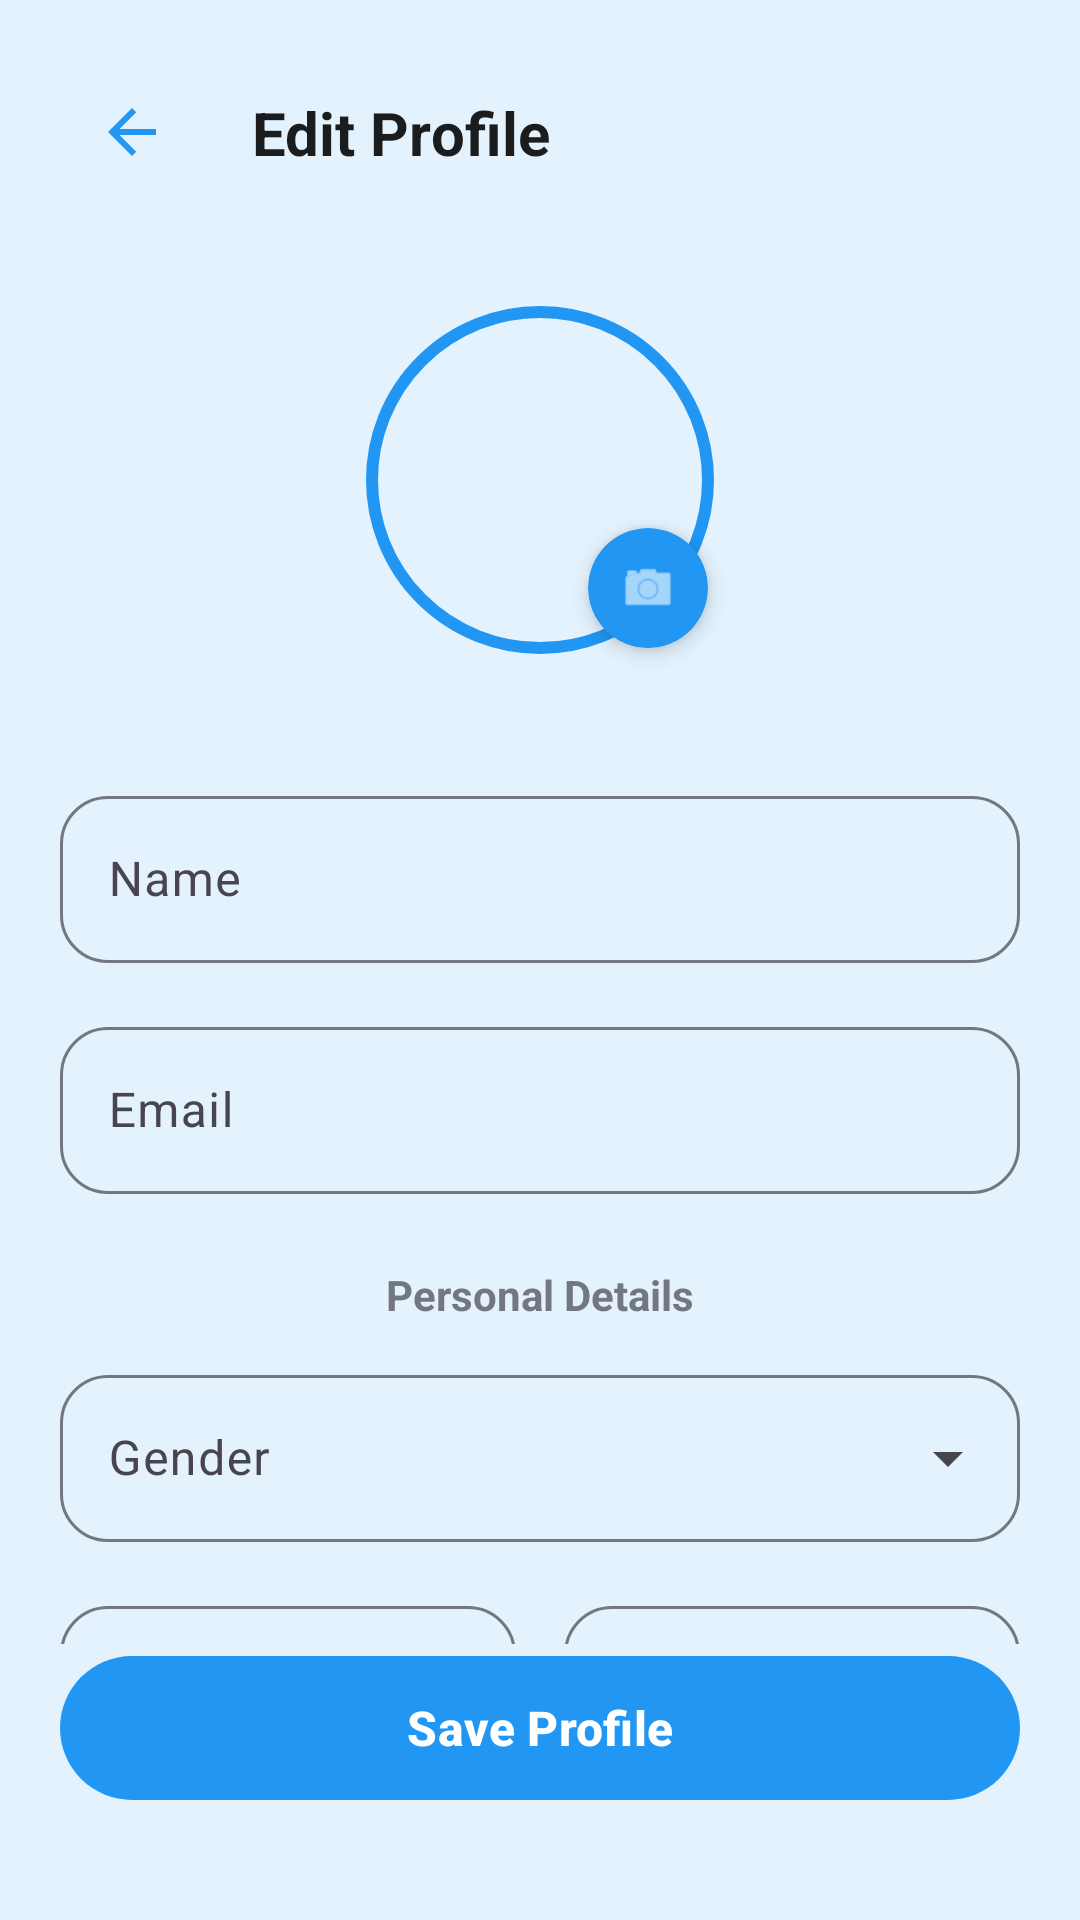

Locate icon controls on the screen. Image size 1080x1920, boxes as [x1=x1, y1=y1, x2=x2, y2=y2].
Back: [x1=108, y1=108, x2=156, y2=156]
camera: [x1=625, y1=569, x2=671, y2=606]
